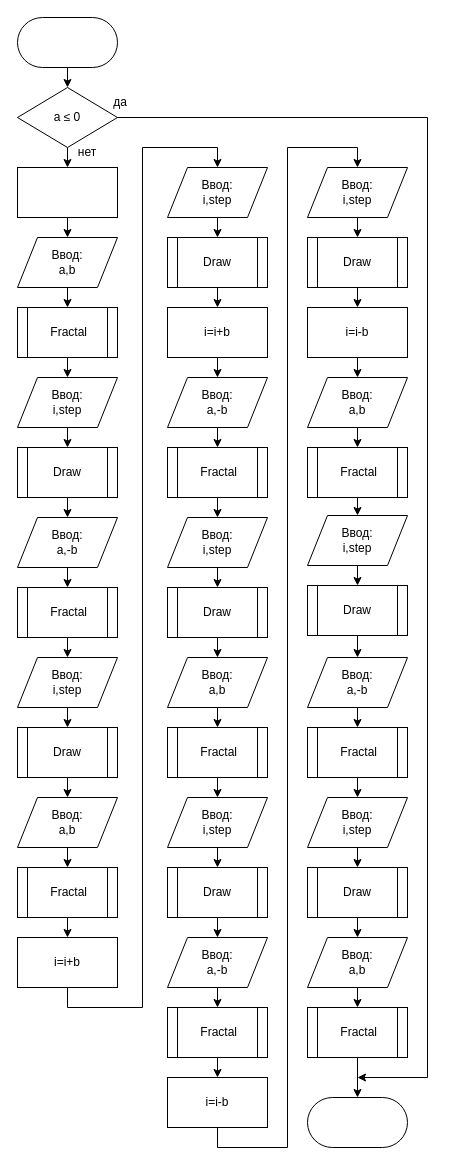
Image size: 453x1173. Some labels were removed from this diagram. Here are the shapes that lost their labels. From the top down, the centre of each, then its label:
At point (67, 42): "начало Fractal".
At point (67, 192): "a=a-1".
At point (357, 1122): "конец".
